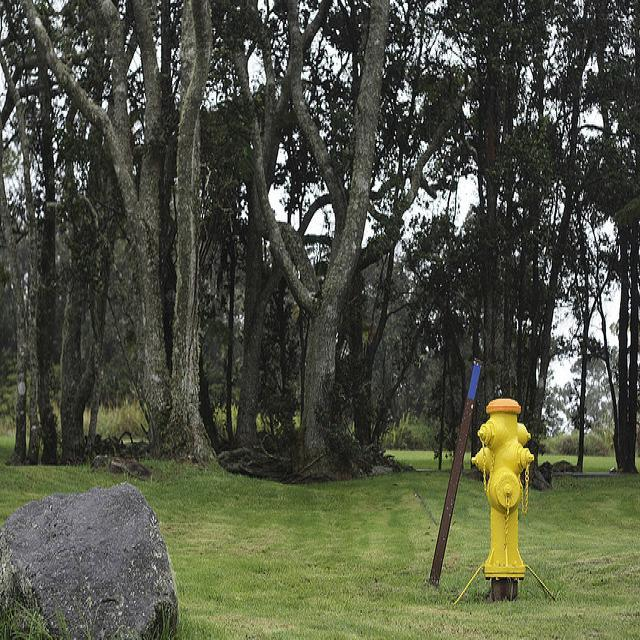fire_hydrant: (453, 397, 556, 604)
